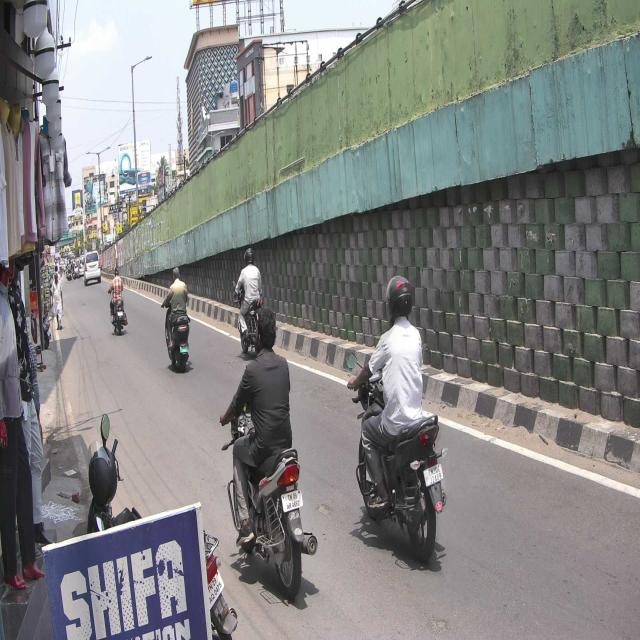single_rider: (346, 272, 446, 568), (221, 305, 318, 598)
